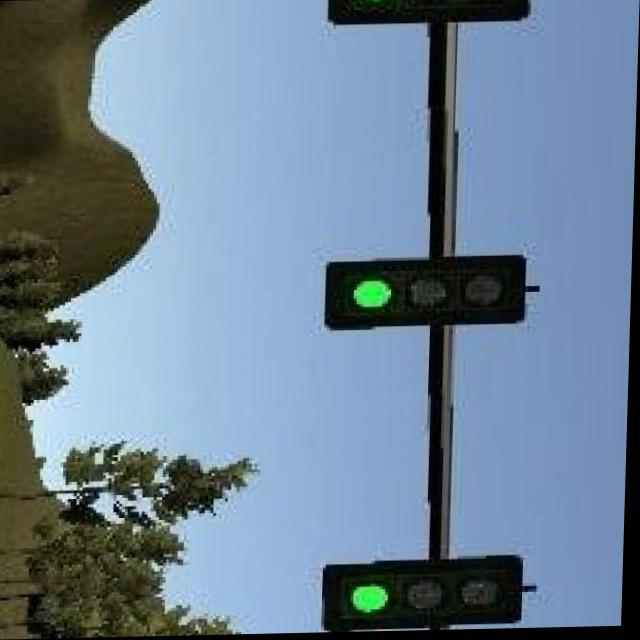green light: (329, 254, 531, 325), (328, 562, 527, 628)
